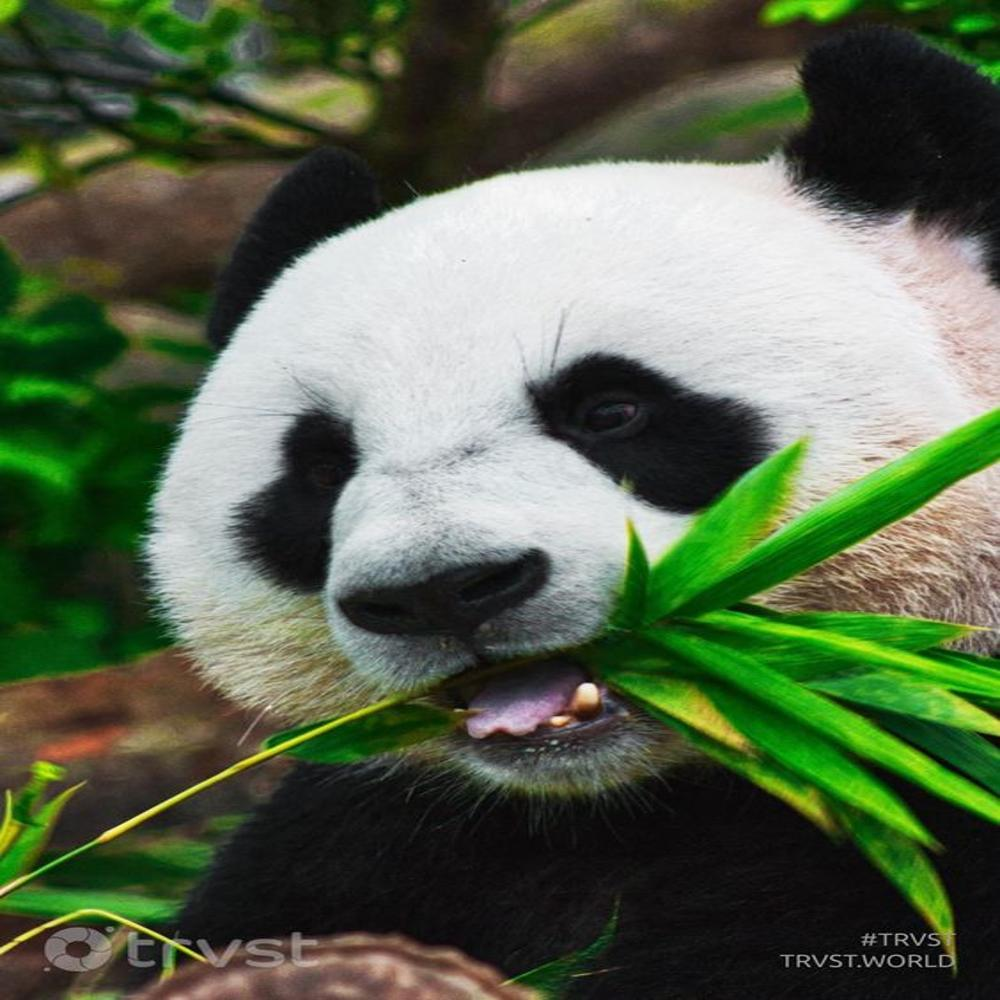panda: (136, 28, 1000, 972)
